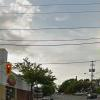Tree: (19, 52, 52, 92)
